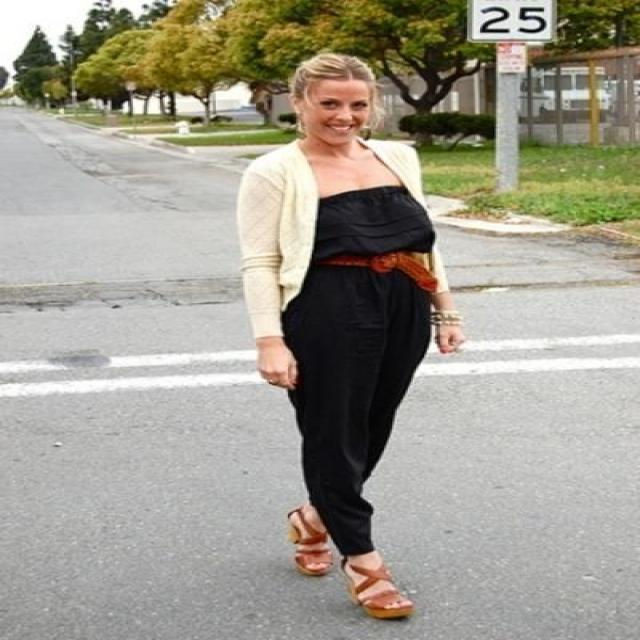dress: (280, 182, 442, 574)
jacket: (230, 140, 421, 341)
shoe: (294, 533, 402, 621)
